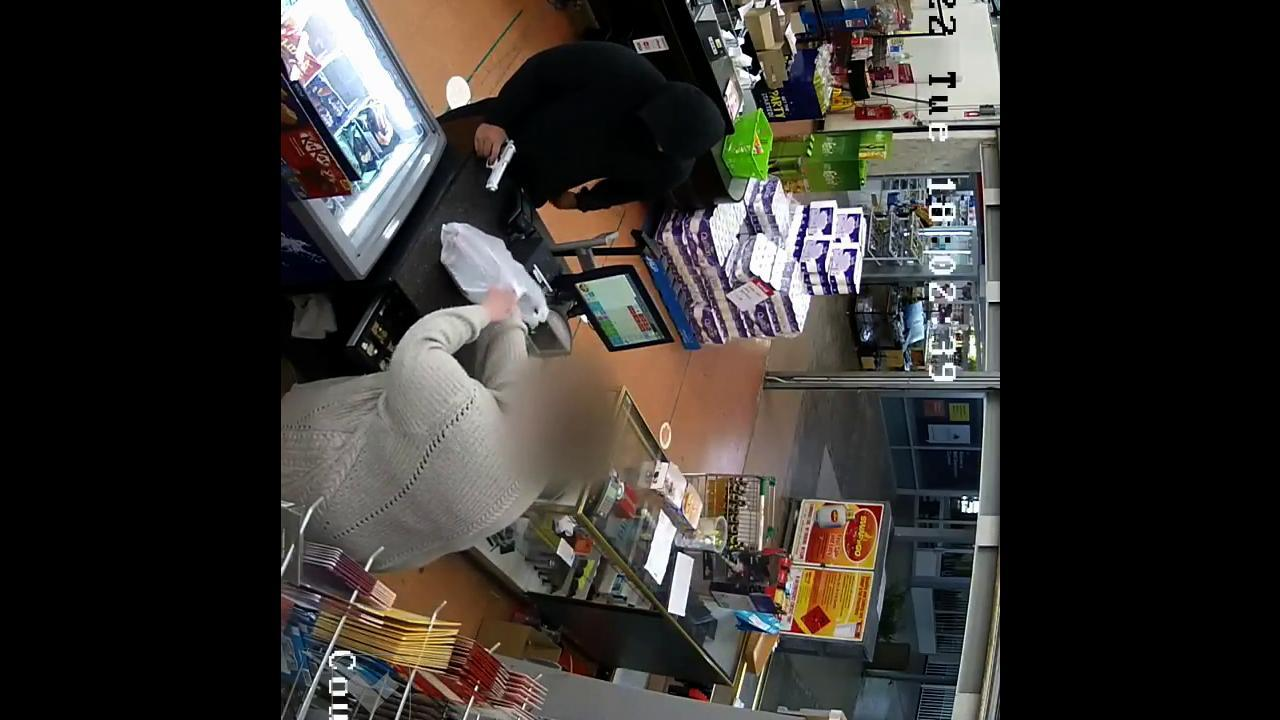gun: (475, 122, 531, 192)
